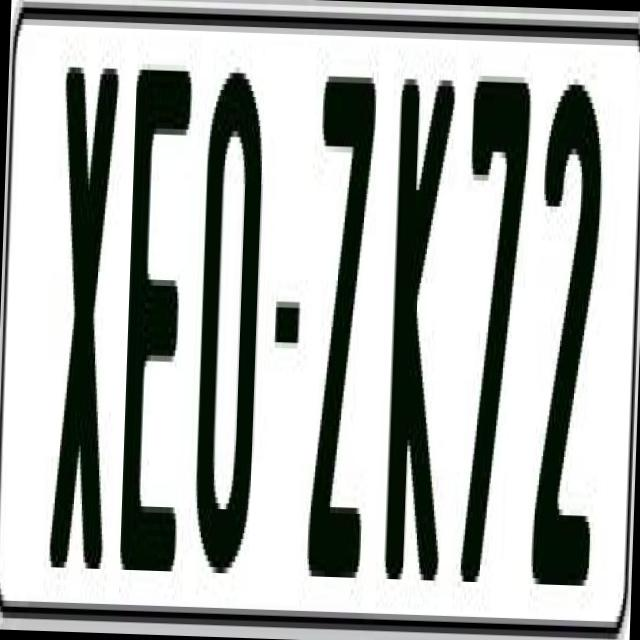0: (188, 71, 264, 574)
2: (530, 83, 606, 591)
7: (457, 75, 538, 578)
E: (118, 69, 198, 607)
K: (382, 67, 457, 592)
X: (49, 50, 128, 558)
Z: (300, 69, 372, 607)
